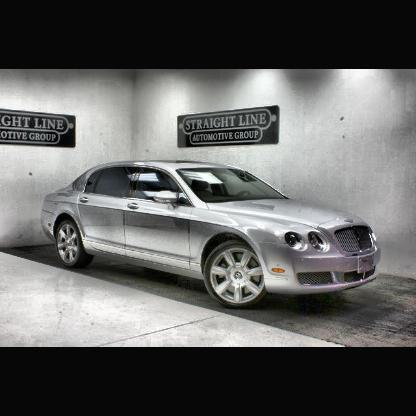Bentley Continental Flying Spur Sedan 2007: (43, 161, 384, 309)
